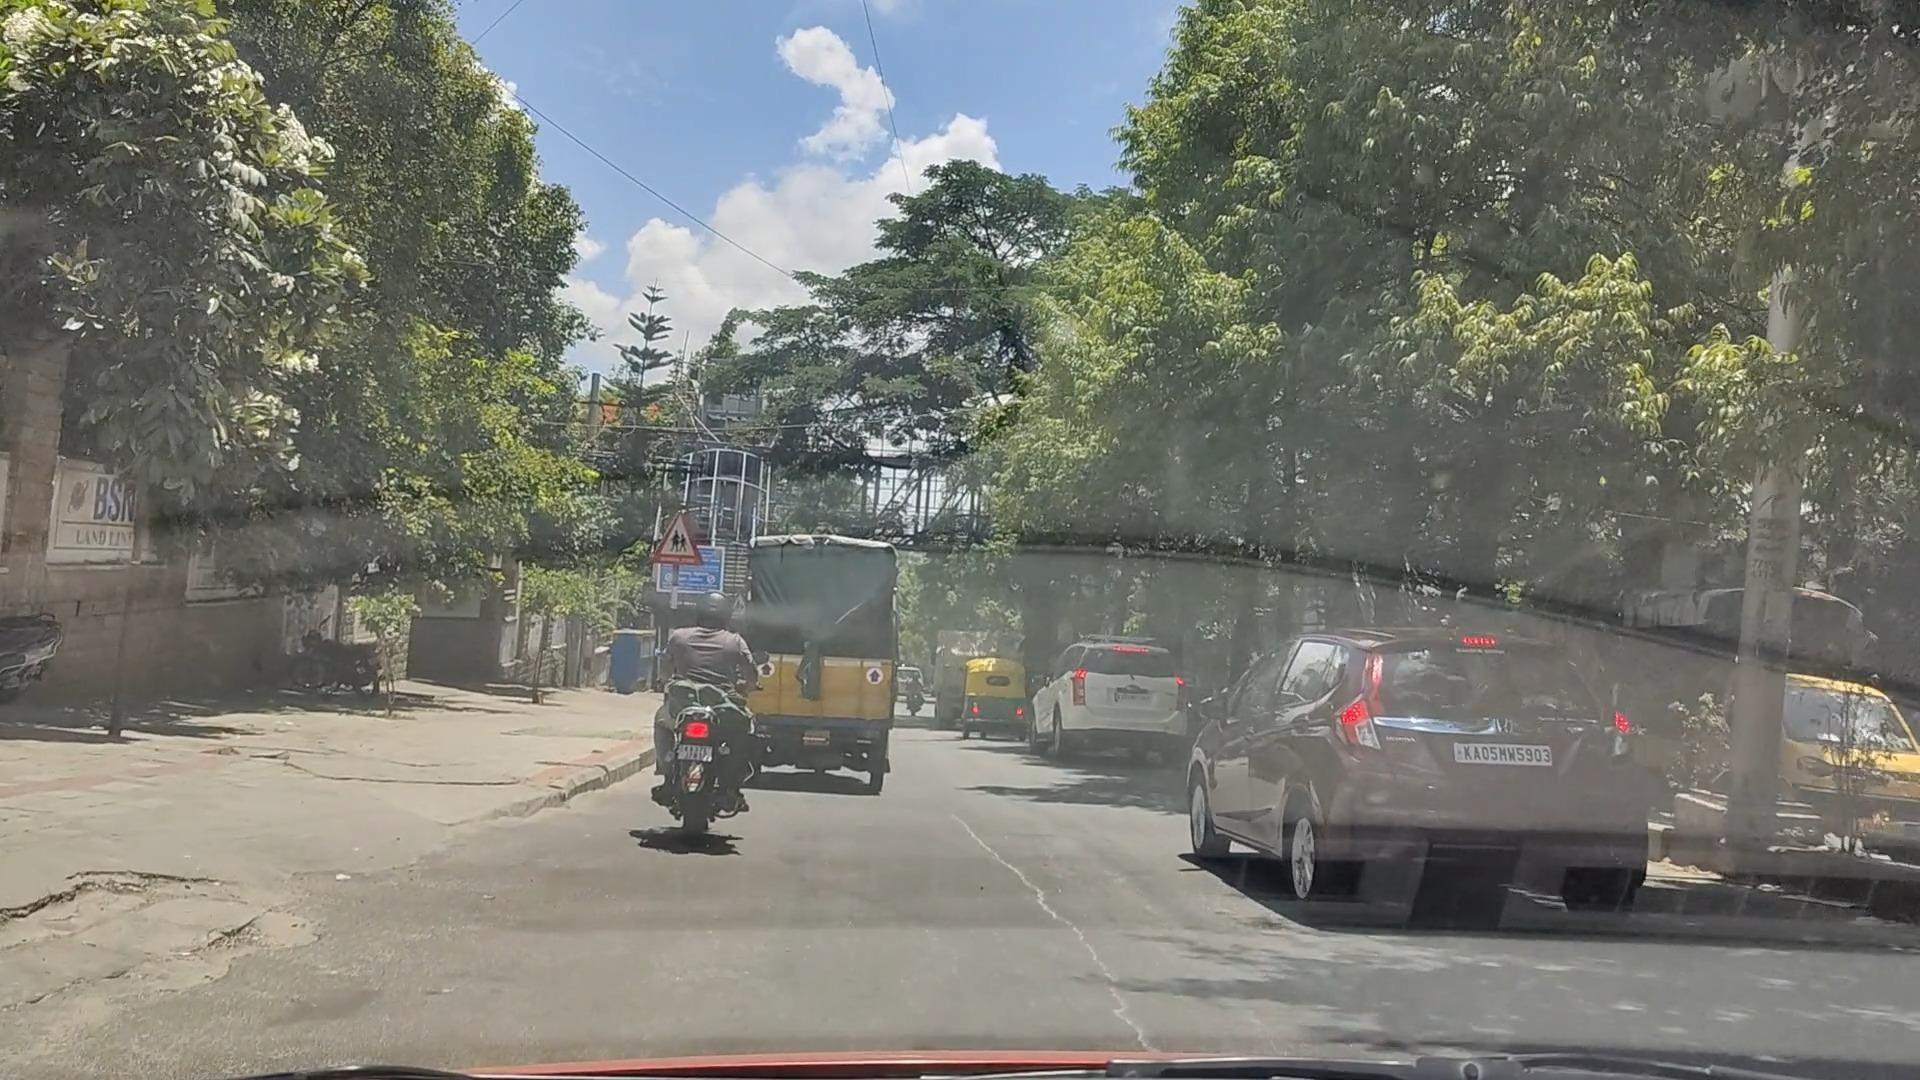HMV: (1609, 571, 1920, 889), (716, 535, 905, 798)
RoadDamages: (928, 765, 1105, 1013), (11, 853, 323, 993)
